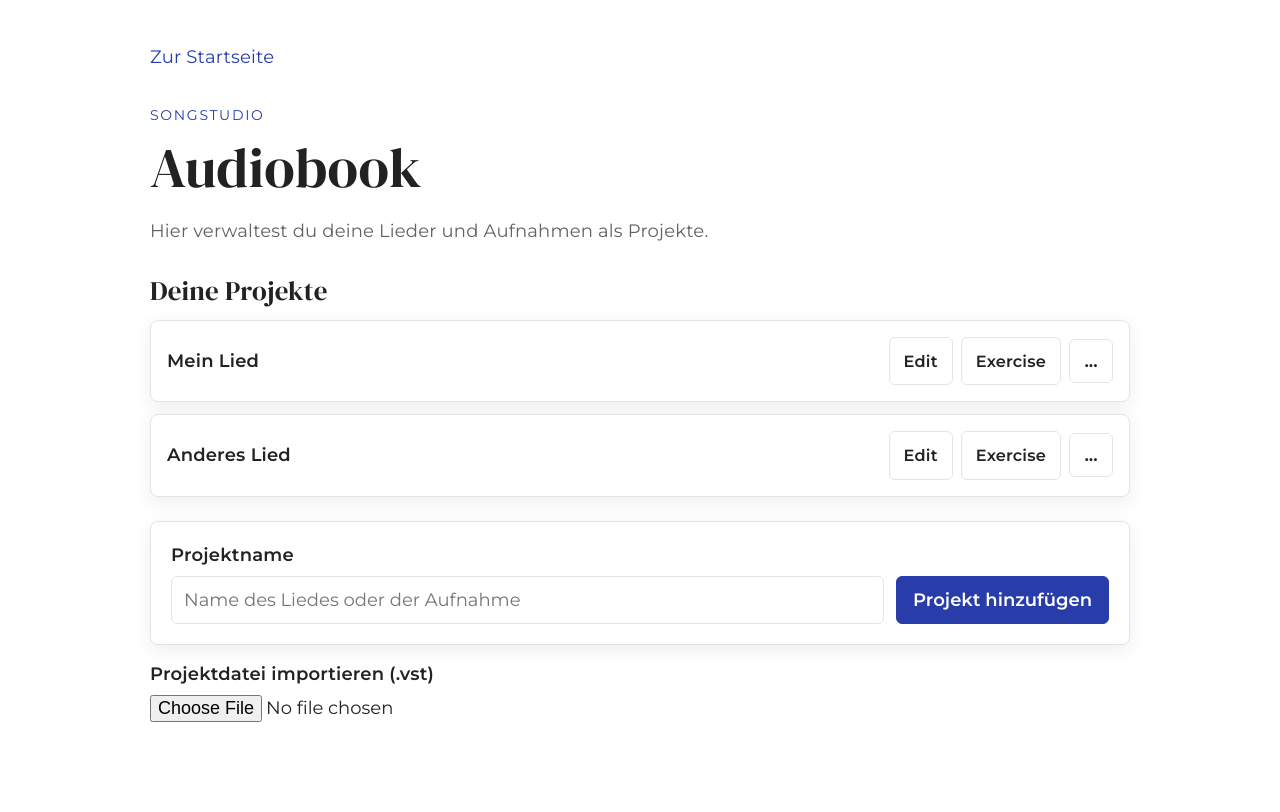
it: Audiobook › zeigt Projekte vor dem Formular und verlinkt direkt zu beiden Ansichten
Expected: the button "Projekt löschen" is not shown
Step 1. Click the button named "Optionen für Mein Lied" → (1091, 361), box [1069,339,1113,383]
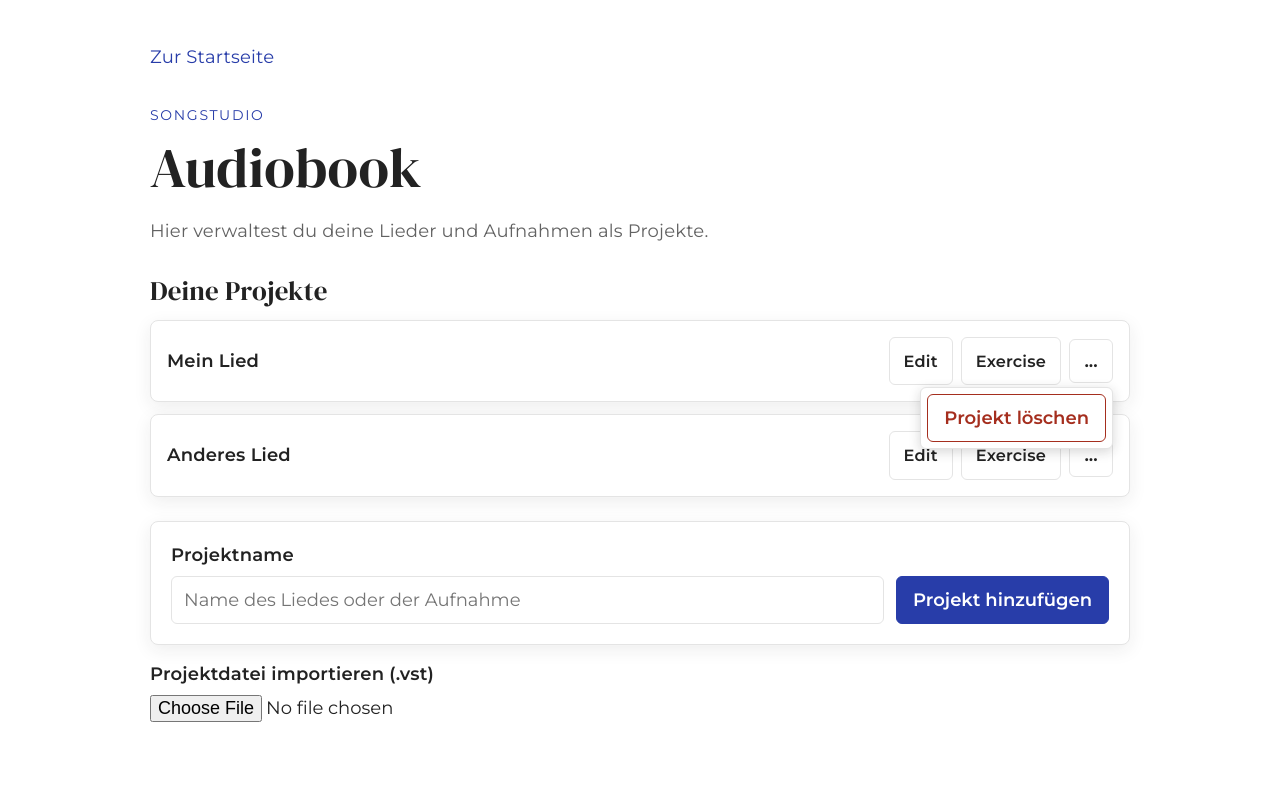
Step 2. Click the button named "Optionen für Anderes Lied" → (1091, 456), box [1069,434,1113,478]
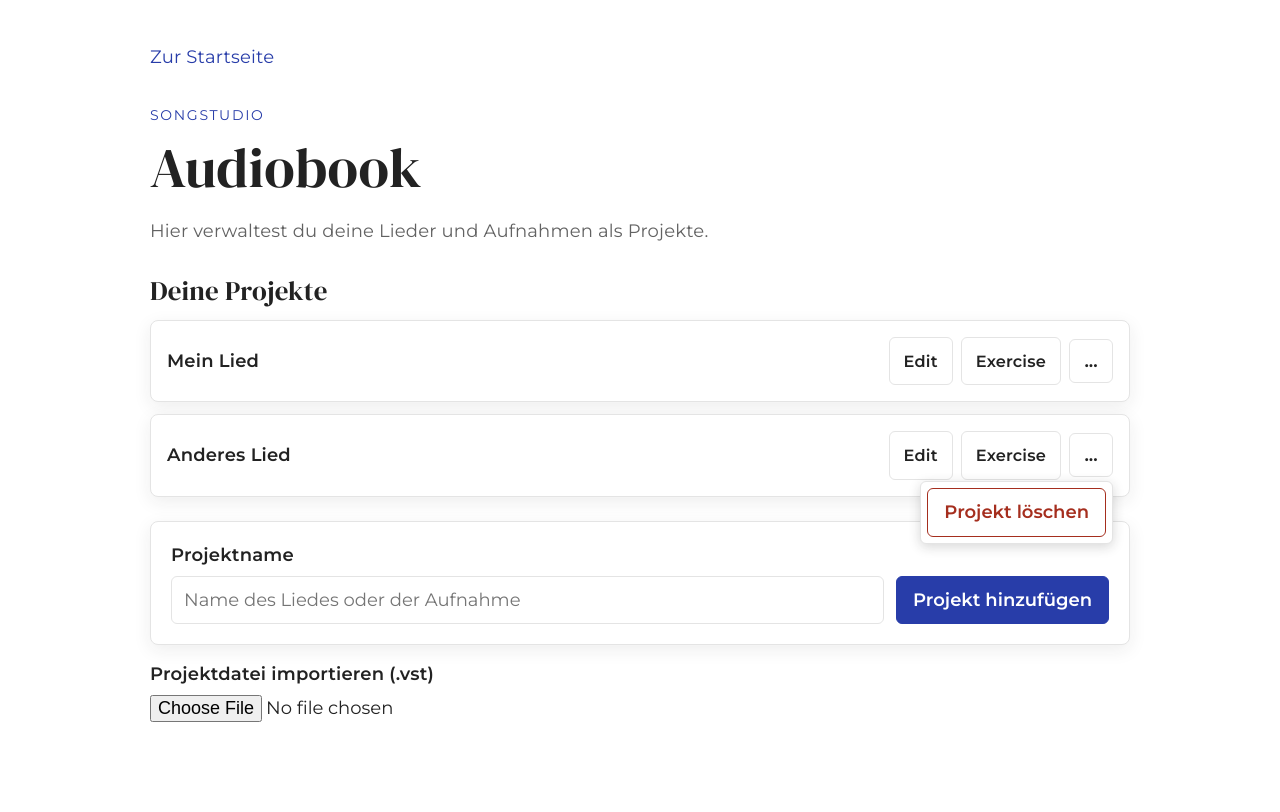
Now the button named "Optionen für Anderes Lied" is expanded, box [1069,434,1113,478]
Step 3. Press Escape
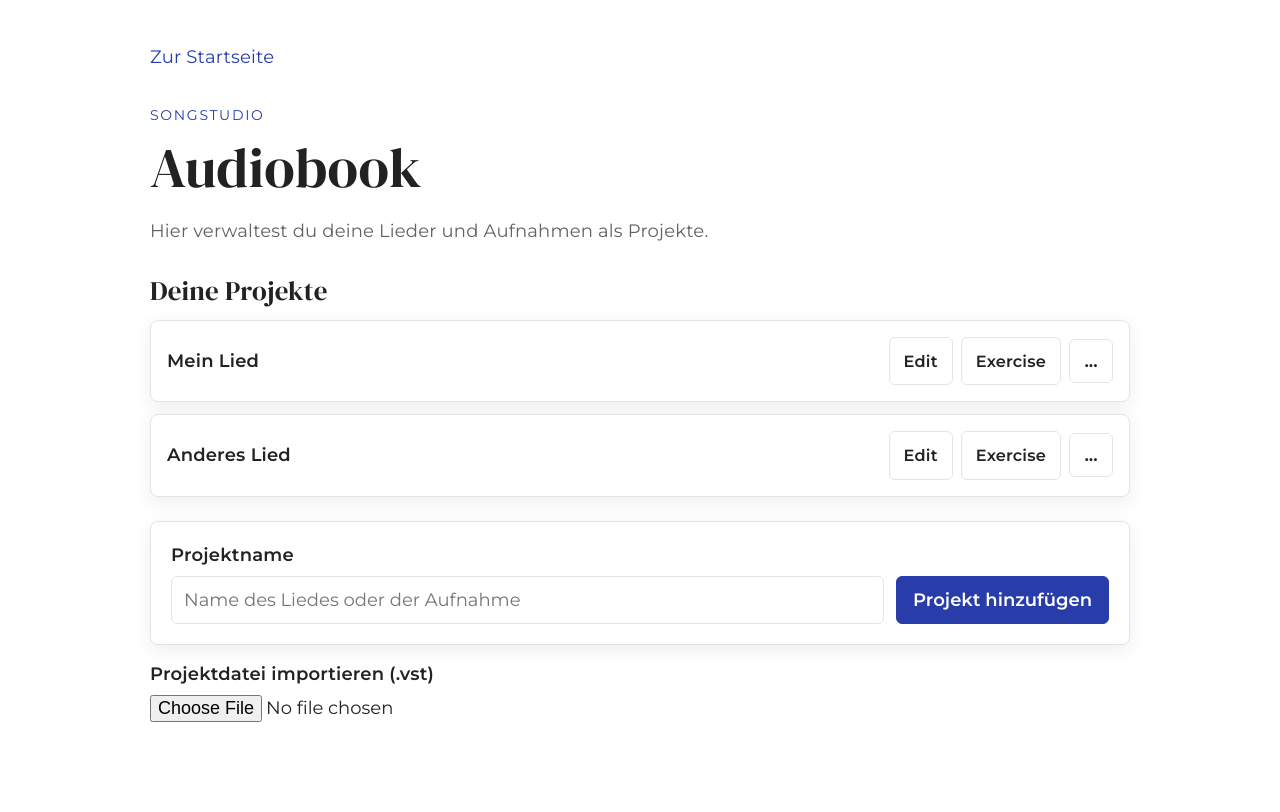
Now the button "Projekt löschen" is gone
Step 4. Click the link with aria-label "Mein Lied üben" → (1011, 361), box [961,337,1061,385]
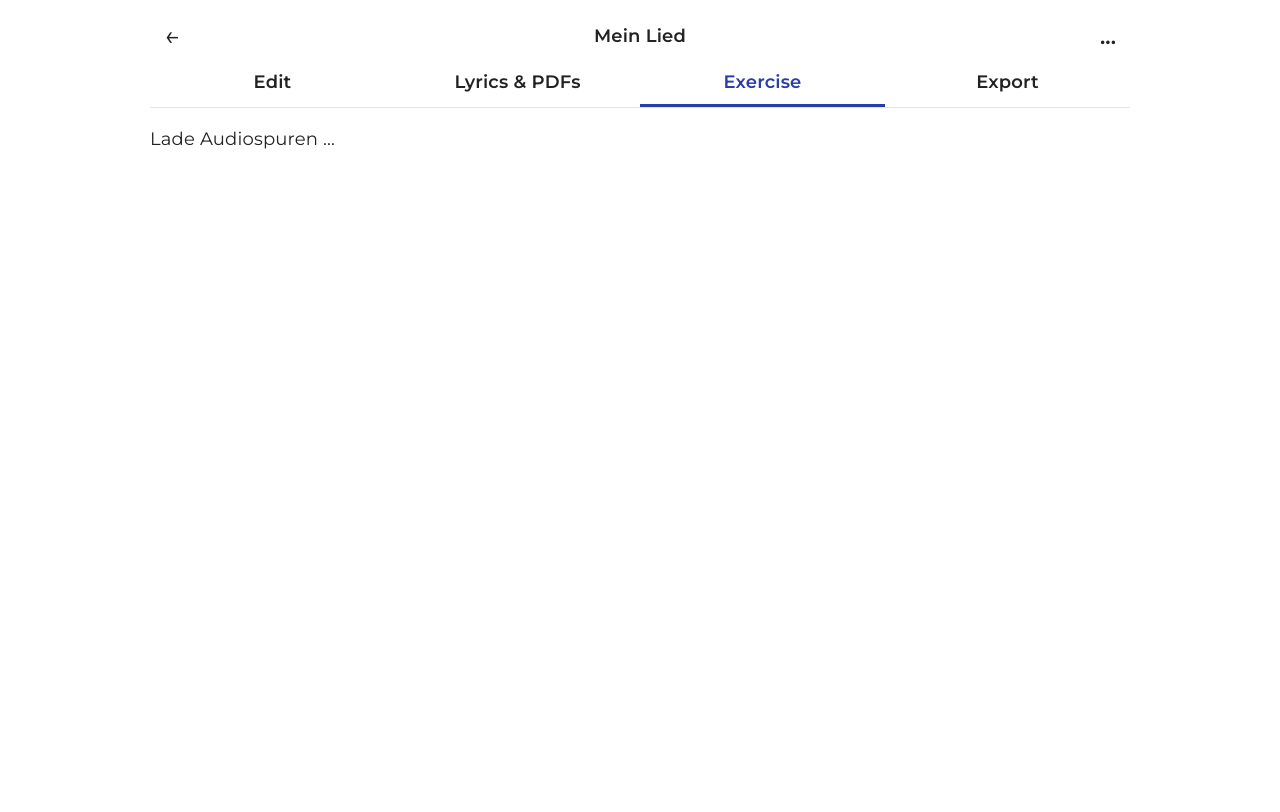
Now the heading "Mein Lied" is shown, box [594,25,686,47]
